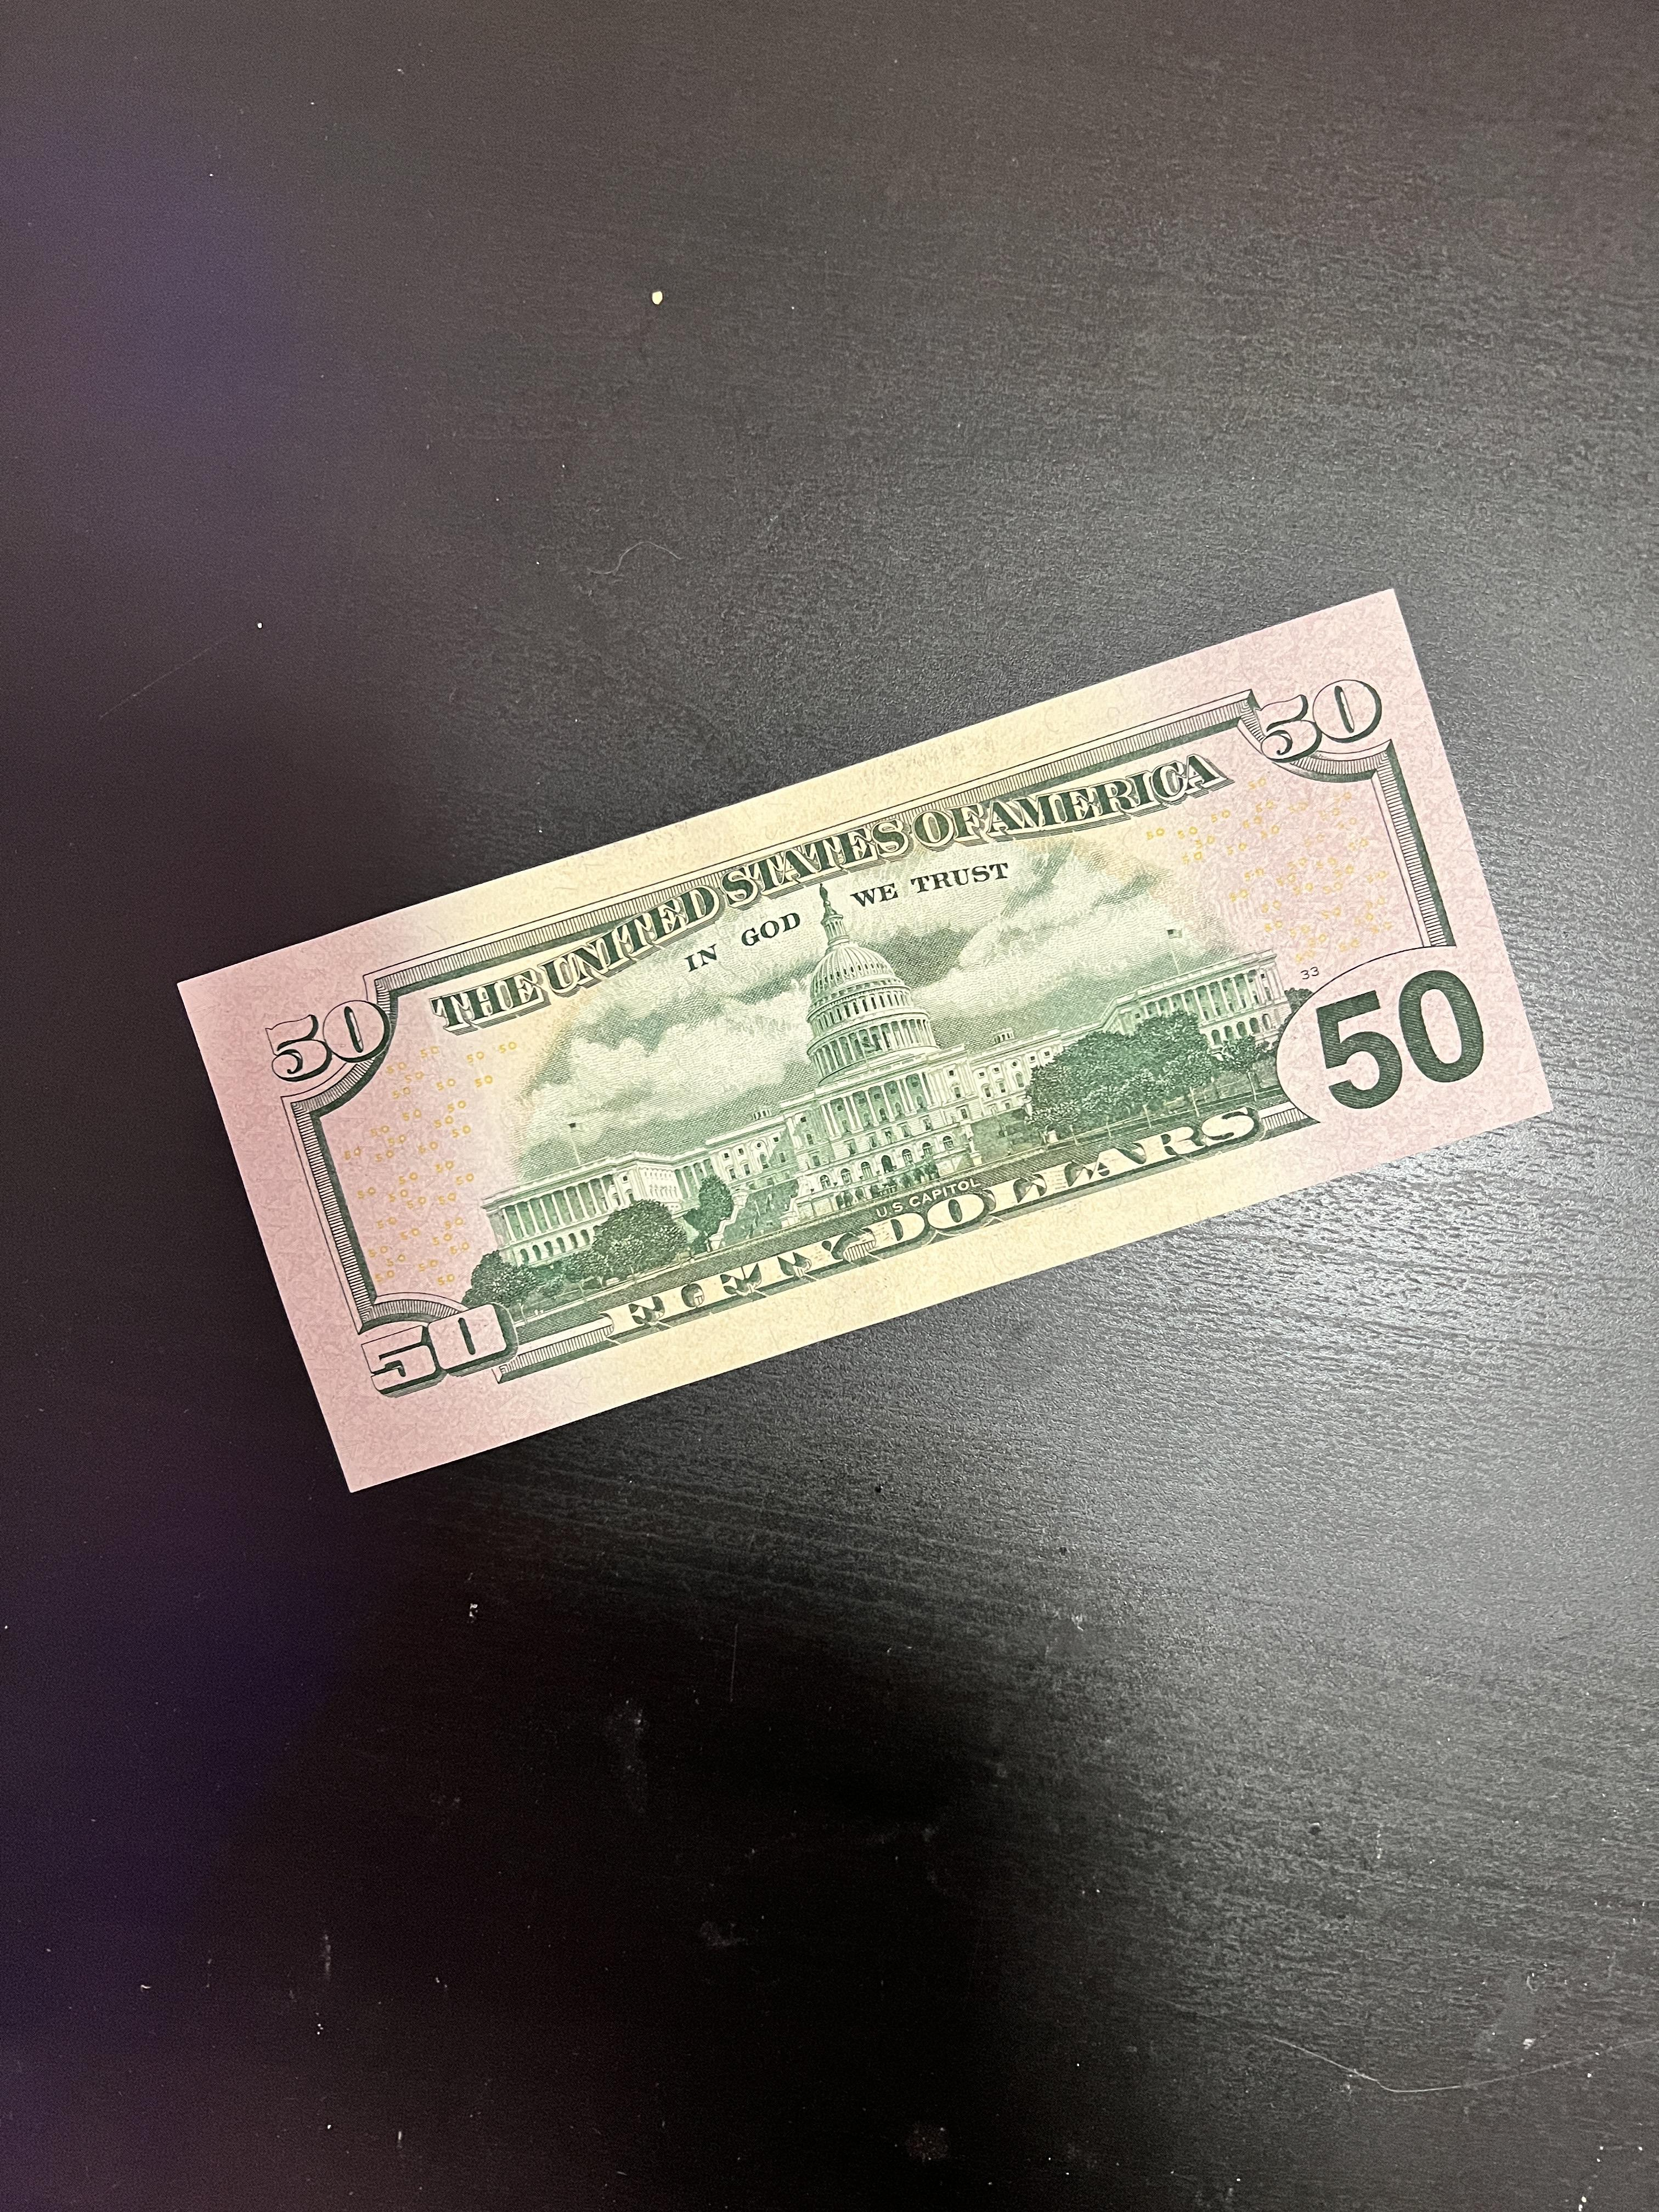FiftyBill: (171, 599, 1572, 1500)
